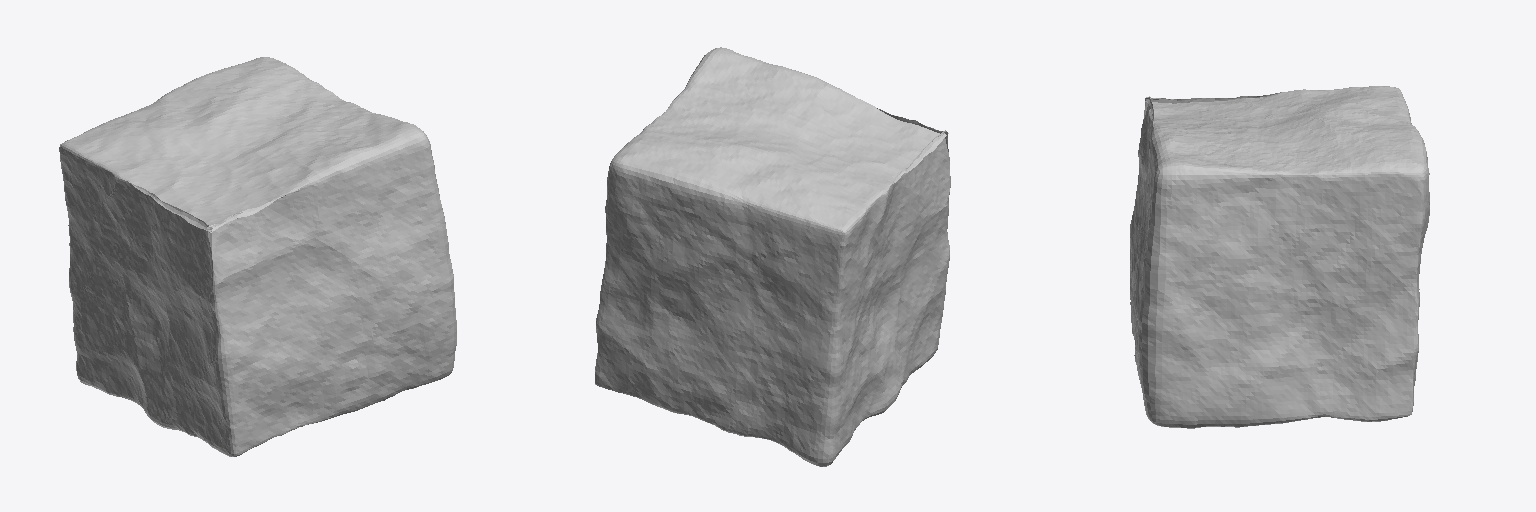
File: Ice.obj
3 views of the same model, side by side, from view 1: azimuth 30°, elevation 25°; view 2: azimuth 150°, elevation 25°; view 3: azimuth 270°, elevation 25° (orthographic).
Parts seen in each view (by area): view 1: Cube.002; view 2: Cube.002; view 3: Cube.002.
Boxes of the visible parts, box(x1,y1,x2,y2) form: Cube.002: box(59, 57, 456, 456); Cube.002: box(595, 47, 950, 466); Cube.002: box(1130, 86, 1429, 428).
Size of the model in its own units: 1.18 by 1.16 by 1.11.